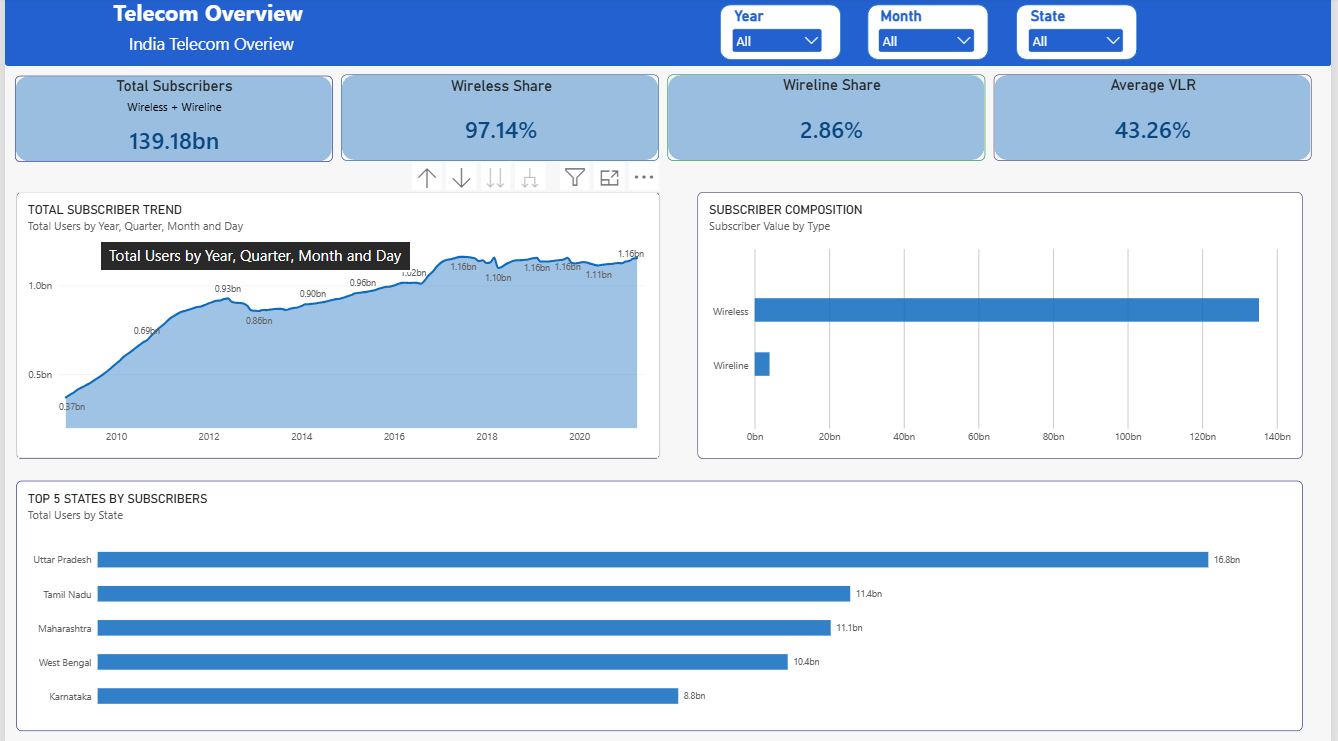

The dashboard page shown, as its layout file describes it:
{"tool":"powerbi","page":{"name":"Telecom Overview","canvas":[1920,1080],"ordinal":2},"visuals":[{"type":"group","id":"g1","title":"Group 1","box":[0,0,1920,100],"z":0},{"type":"shape","box":[0,0,1920,100],"z":0,"group":"g1"},{"type":"shape","box":[1035,10,175,80],"z":0,"group":"g4"},{"type":"shape","box":[1249.2,10,175,80],"z":0,"group":"g6"},{"type":"shape","box":[1463.3,10,175,80],"z":0,"group":"g9"},{"type":"shape","box":[960,111.8,460,125],"z":0,"group":"g2"},{"type":"shape","box":[1432,112,460,125],"z":0,"group":"g3"},{"type":"shape","box":[487.5,112.9,460,125],"z":0,"group":"g5"},{"type":"shape","box":[15,113.9,460,125],"z":0,"group":"g7"},{"type":"textbox","box":[0,0,588.1,99.5],"z":1000,"group":"g1"},{"type":"slicer","fields":{"Values":["DateTable.Year"]},"box":[1048.3,13.3,140,66.7],"z":1000,"group":"g4"},{"type":"slicer","fields":{"Values":["telecom_data.State"]},"box":[1476.3,13.3,147.8,75.6],"z":1000,"group":"g9"},{"type":"slicer","fields":{"Values":["DateTable.Month"]},"box":[1260.1,14.4,148.9,72.2],"z":1000,"group":"g6"},{"type":"group","id":"g2","title":"VRL CARD","box":[960,111.8,460,125],"z":1000},{"type":"group","id":"g3","title":"topstate","box":[1432,112,460,124],"z":1000,"group":"g8"},{"type":"cardVisual","title":"Wireline Share","fields":{"Data":["M.Wireline Share %"]},"box":[1066.2,114,262.5,121.2],"z":1000,"group":"g2"},{"type":"cardVisual","title":"Wireless Share","fields":{"Data":["M.Wireless Share %"]},"box":[571.3,115.7,297.5,120],"z":1000,"group":"g5"},{"type":"cardVisual","title":"Total Subscribers","fields":{"Data":["M.Total Users"]},"box":[114.5,115.8,262.4,119.4],"z":1000,"group":"g7"},{"type":"group","id":"g4","title":"year slicer","box":[1035,10,175,80],"z":2000,"group":"g1"},{"type":"group","id":"g5","title":"wireline card","box":[487.5,112.9,460,125],"z":2000},{"type":"group","id":"g6","title":"month slicer","box":[1249.2,10,175,80],"z":3000,"group":"g1"},{"type":"group","id":"g7","title":"wireless card","box":[15,113.9,460,125],"z":3000},{"type":"group","id":"g8","title":"Group 2","box":[1432,112,460,124],"z":4000},{"type":"cardVisual","title":"Average VLR","fields":{"Data":["M.Average VLR %"]},"box":[1530.8,114,262.5,121.2],"z":4500,"group":"g8"},{"type":"group","id":"g9","title":"state slicer","box":[1463.3,10,175,80],"z":5000,"group":"g1"},{"type":"areaChart","title":"TOTAL SUBSCRIBER TREND","fields":{"Category":["DateTable.Date.Variation.Date Hierarchy.Year","DateTable.Date.Variation.Date Hierarchy.Quarter","DateTable.Date.Variation.Date Hierarchy.Month","DateTable.Date.Variation.Date Hierarchy.Day"],"Y":["M.Total Users"]},"box":[16,282,932,386],"z":5000},{"type":"barChart","title":"SUBSCRIBER COMPOSITION","fields":{"Category":["Subscriber Type.Type"],"Y":["M.Subscriber Value"]},"box":[1002,282,876,386],"z":6000},{"type":"clusteredBarChart","title":"TOP 5 STATES BY SUBSCRIBERS","fields":{"Category":["telecom_data.State"],"Y":["M.Total Users"]},"box":[16,700,1862,362],"z":7000}]}

Visuals, with their boxes in screenshot pixels (x1, y1, x2, y2), scaled from the page's 1920x1080 canvas onto the 1338x741 screenshot:
"Group 1" group: l=0, t=0, r=1337, b=69
shape: l=0, t=0, r=1337, b=69
shape: l=721, t=7, r=843, b=62
shape: l=871, t=7, r=992, b=62
shape: l=1020, t=7, r=1142, b=62
shape: l=669, t=77, r=990, b=162
shape: l=998, t=77, r=1318, b=163
shape: l=340, t=77, r=660, b=163
shape: l=10, t=78, r=331, b=164
textbox: l=0, t=0, r=410, b=68
slicer - DateTable.Year: l=731, t=9, r=828, b=55
slicer - telecom_data.State: l=1029, t=9, r=1132, b=61
slicer - DateTable.Month: l=878, t=10, r=982, b=59
"VRL CARD" group: l=669, t=77, r=990, b=162
"topstate" group: l=998, t=77, r=1318, b=162
"Wireline Share" cardVisual: l=743, t=78, r=926, b=161
"Wireless Share" cardVisual: l=398, t=79, r=605, b=162
"Total Subscribers" cardVisual: l=80, t=79, r=263, b=161
"year slicer" group: l=721, t=7, r=843, b=62
"wireline card" group: l=340, t=77, r=660, b=163
"month slicer" group: l=871, t=7, r=992, b=62
"wireless card" group: l=10, t=78, r=331, b=164
"Group 2" group: l=998, t=77, r=1318, b=162
"Average VLR" cardVisual: l=1067, t=78, r=1250, b=161
"state slicer" group: l=1020, t=7, r=1142, b=62
"TOTAL SUBSCRIBER TREND" areaChart: l=11, t=193, r=661, b=458
"SUBSCRIBER COMPOSITION" barChart: l=698, t=193, r=1309, b=458
"TOP 5 STATES BY SUBSCRIBERS" clusteredBarChart: l=11, t=480, r=1309, b=729
